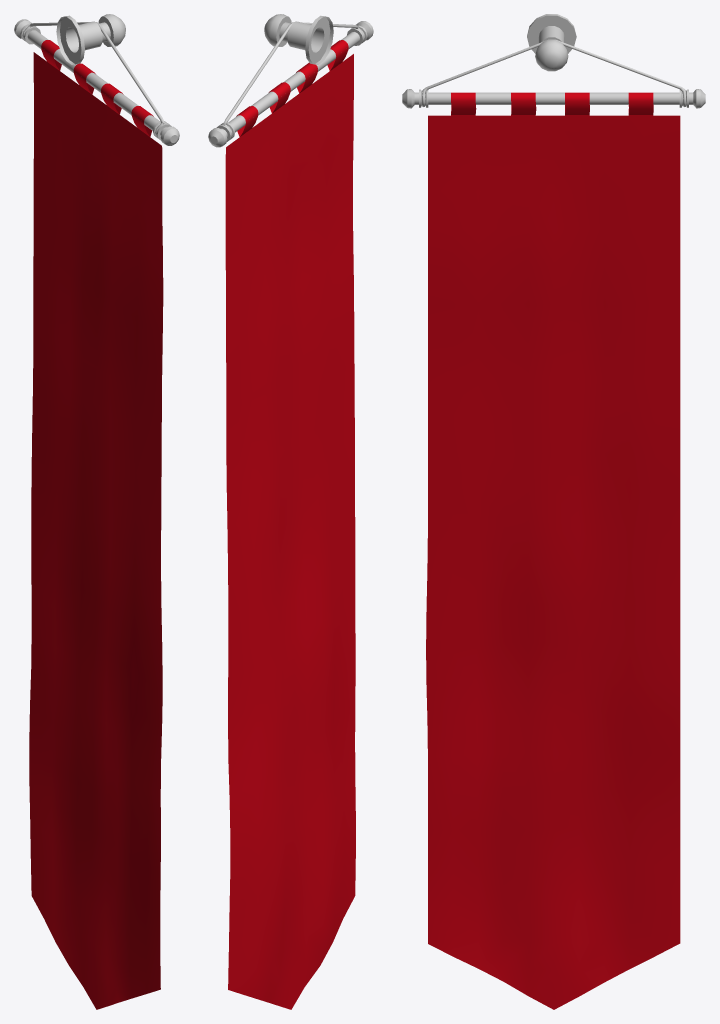
Rendered from Flag.fbx.
The picture shows the model from 3 angles, left to right: view 1: azimuth 30°, elevation 25°; view 2: azimuth 150°, elevation 25°; view 3: azimuth 270°, elevation 25°; orthographic projection.
Parts seen in each view (by area): view 1: Flag; view 2: Flag; view 3: Flag.
Boxes of the visible parts, left/top/right/bottom form: Flag: left=14, top=14, right=179, bottom=1009; Flag: left=208, top=14, right=373, bottom=1009; Flag: left=402, top=14, right=705, bottom=1009.
Size of the model in its own units: 29.87 by 529 by 148.
